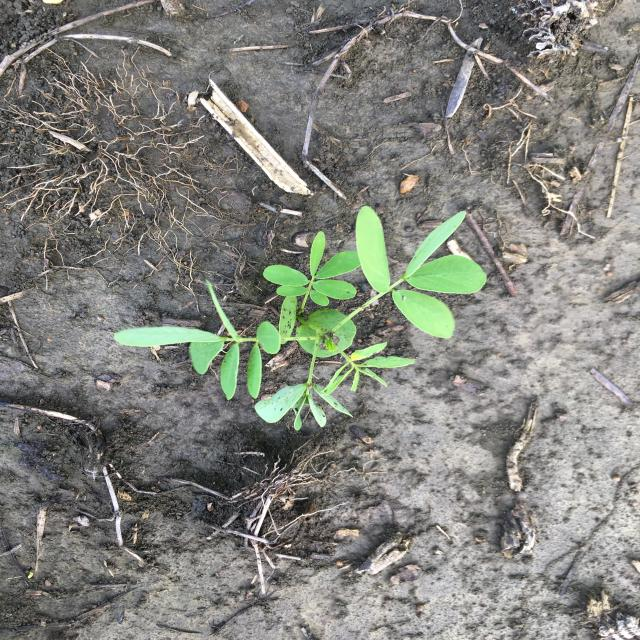Sicklepod: (111, 204, 488, 430)
